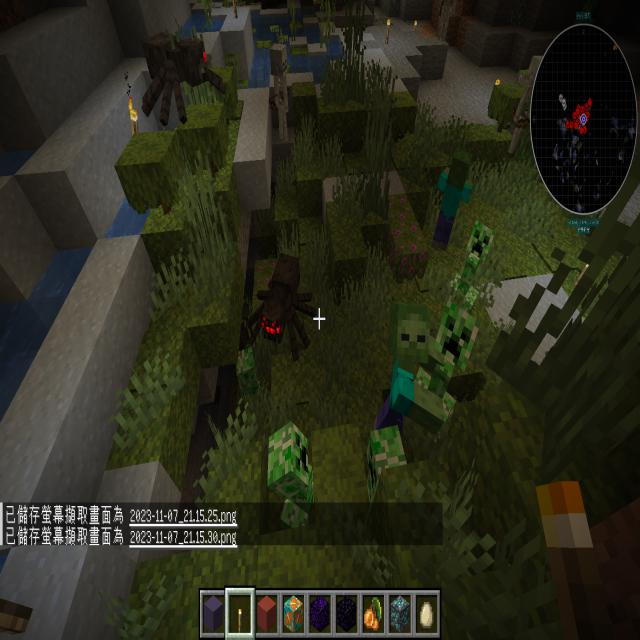Creeper: (409, 288, 483, 437), (258, 419, 322, 535), (443, 215, 498, 319), (358, 412, 412, 510), (228, 341, 266, 408)
Skeleton: (260, 35, 296, 148)
Spider: (136, 25, 233, 134), (240, 247, 320, 376)
Zombie: (369, 294, 448, 466), (429, 144, 475, 255)
